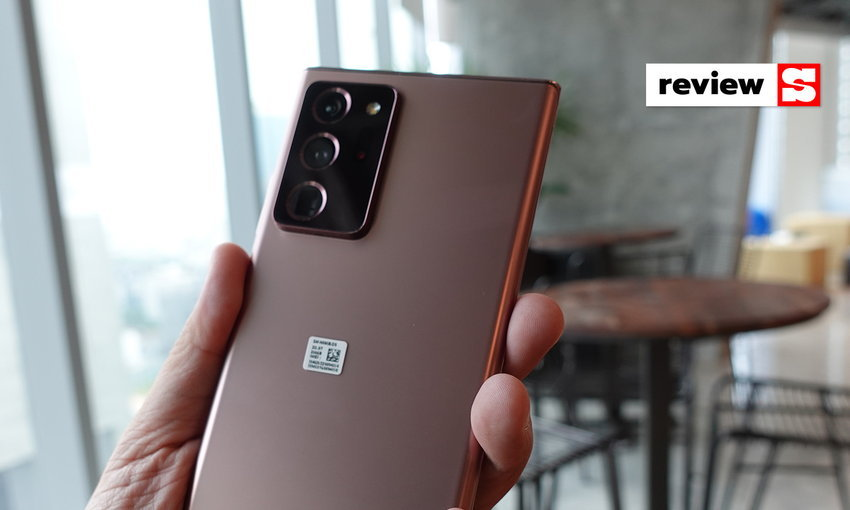phone: (173, 58, 567, 510)
